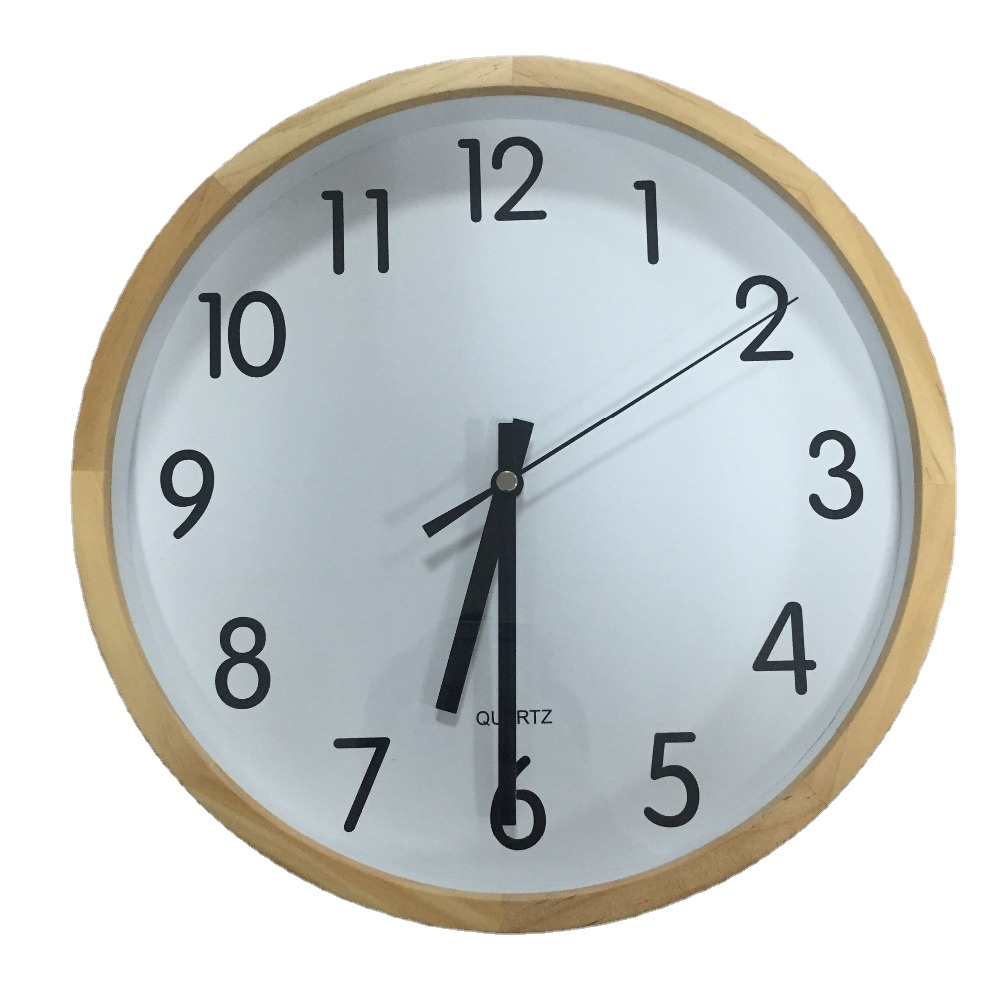jam dinding: (81, 47, 967, 925)
